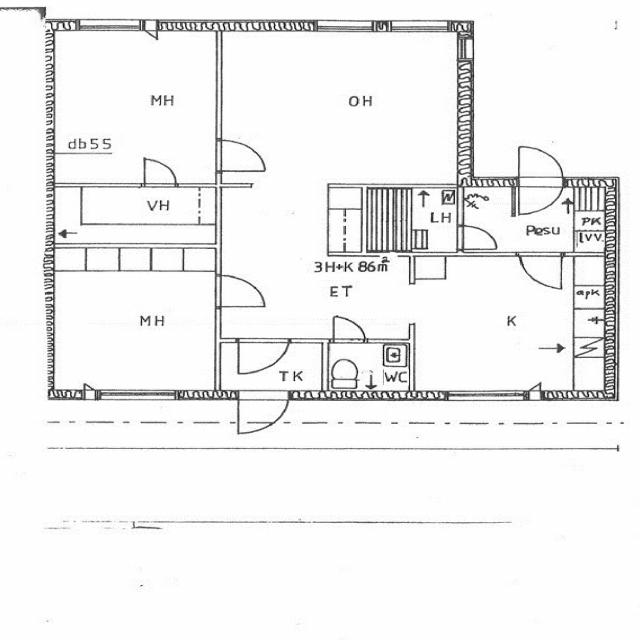door: (239, 390, 288, 436), (237, 338, 287, 378), (518, 176, 562, 218), (518, 145, 562, 187), (214, 140, 265, 171), (214, 276, 264, 306), (520, 252, 561, 286), (458, 225, 498, 249), (144, 161, 175, 187), (334, 316, 364, 342)
